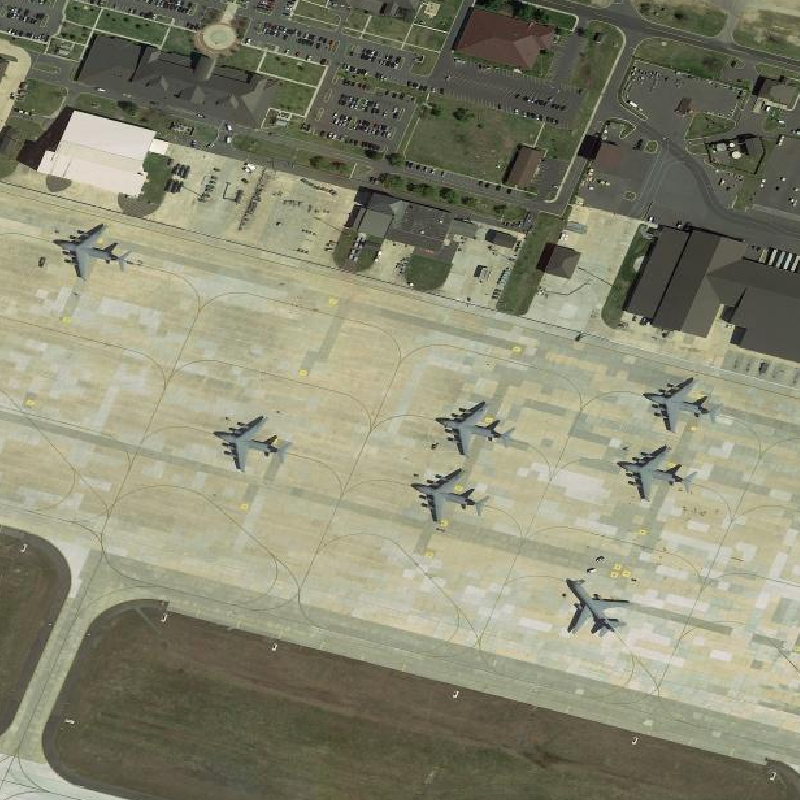A18: (563, 574, 634, 640)
A3: (210, 413, 296, 477), (408, 466, 493, 529), (613, 443, 700, 503), (432, 399, 520, 458), (52, 223, 134, 286), (641, 373, 725, 434)
